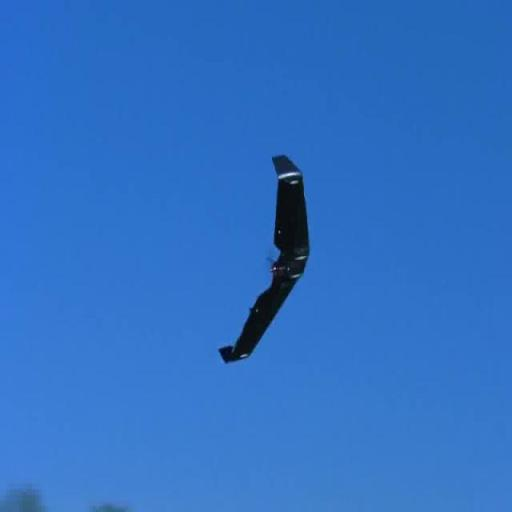uav: (216, 151, 318, 371)
